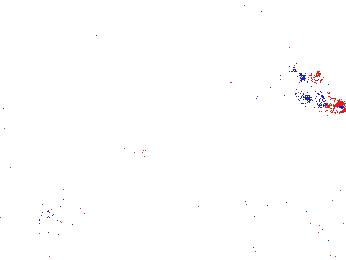glassfish: (56, 136, 170, 186)
red belly glassfish: (302, 94, 345, 113), (293, 65, 325, 84)
